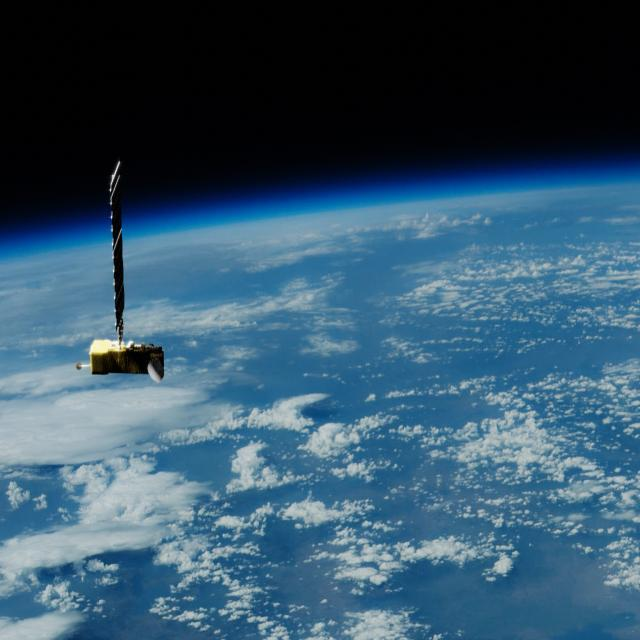satellite: (73, 153, 172, 402)
